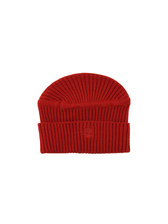other: (35, 72, 136, 156)
